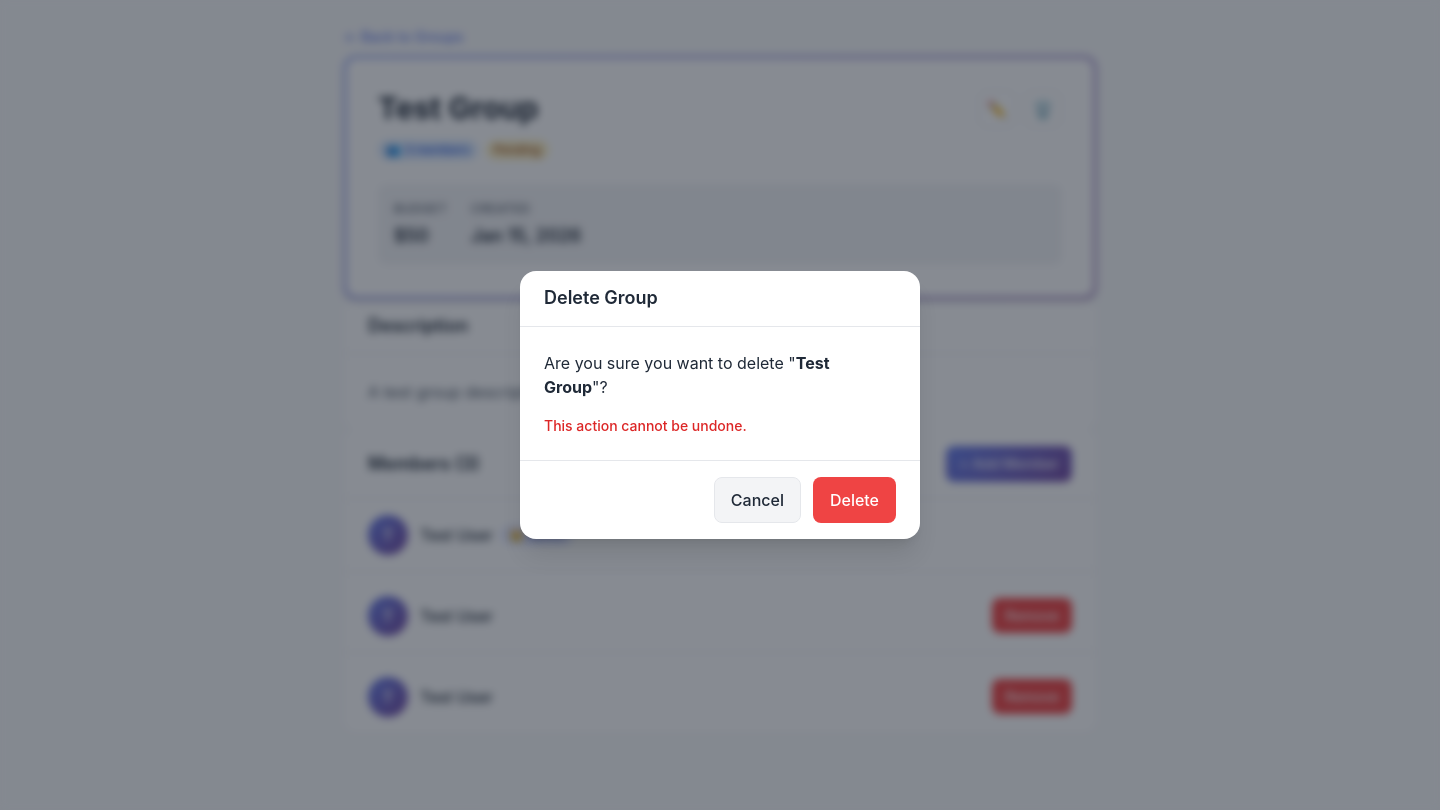
it: GroupDetailComponent › Delete Group › should close modal on cancel
The image size is (1440, 810).
Click the button with test id "cancel-delete-btn".
click(757, 500)  # box [714,477,801,523]
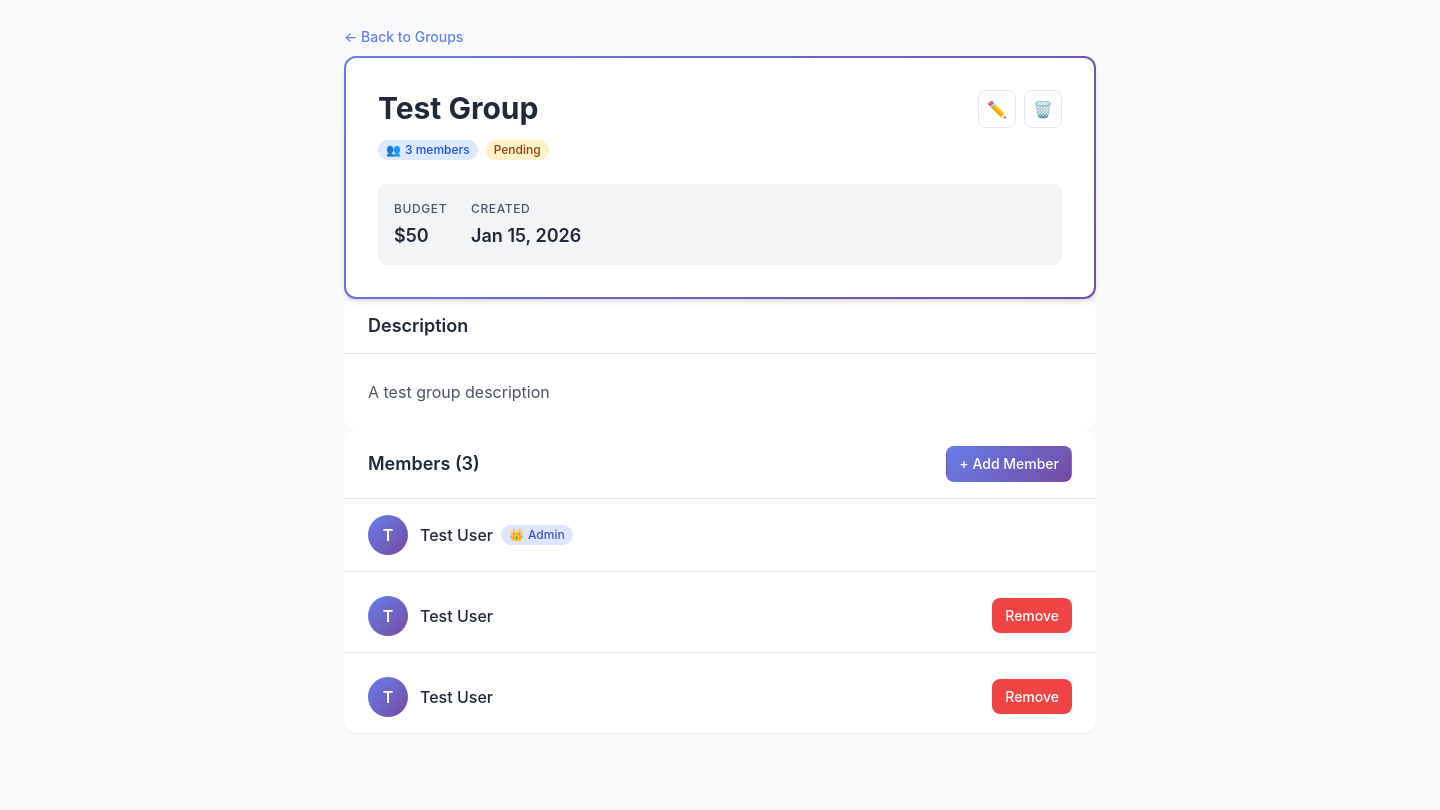
Check: the dialog with test id "delete-modal" is gone
